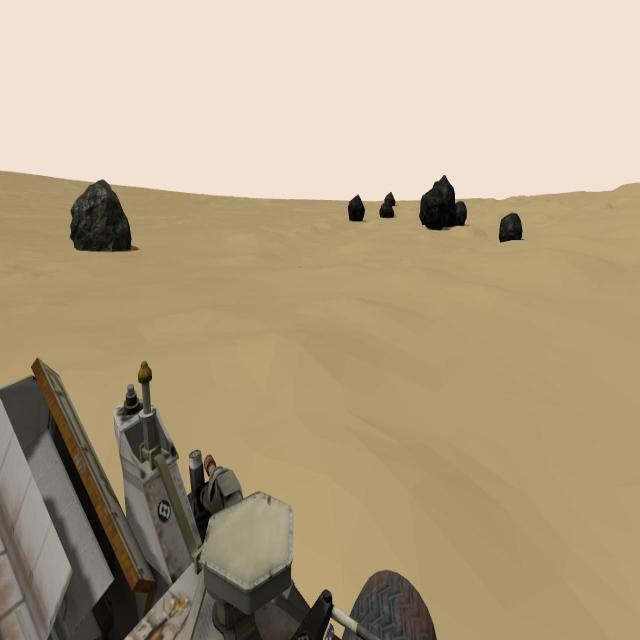rock: (70, 179, 132, 252), (434, 174, 455, 230), (419, 188, 446, 229), (499, 214, 522, 242), (348, 195, 365, 223), (452, 200, 467, 227), (379, 201, 394, 218), (385, 190, 395, 208)
